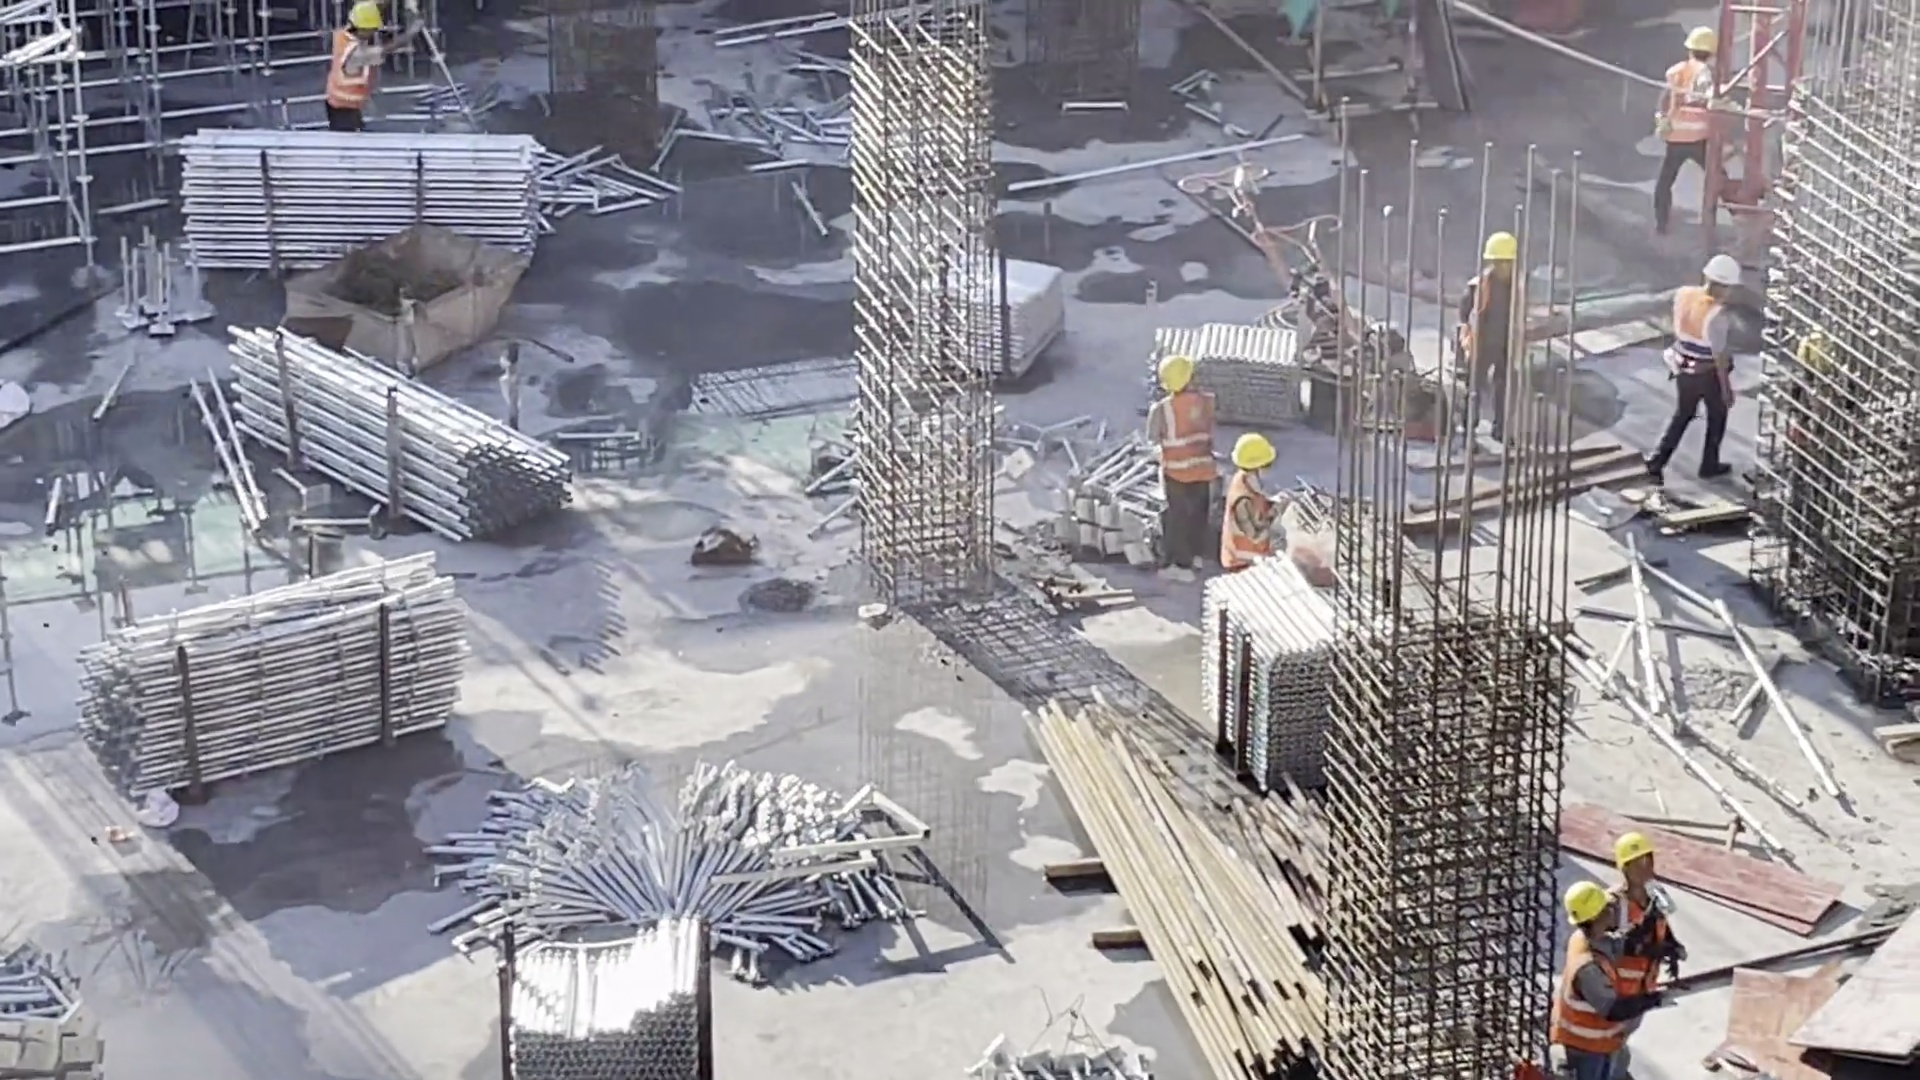board: (1733, 894, 1913, 1080)
helmet: (1560, 878, 1623, 935), (1232, 426, 1286, 483), (1675, 20, 1719, 58), (1152, 358, 1199, 393), (1625, 842, 1666, 875), (345, 1, 384, 34), (1714, 257, 1738, 297), (1488, 232, 1518, 263)
hopper: (269, 216, 536, 372)
person: (1663, 249, 1751, 483), (1459, 219, 1538, 460), (1545, 876, 1637, 1076), (1654, 17, 1734, 211), (1141, 354, 1218, 550), (1601, 815, 1677, 1012), (1208, 423, 1293, 598), (332, 1, 417, 142)
scaffold: (450, 768, 919, 965), (214, 318, 578, 552), (80, 561, 469, 771), (168, 119, 544, 279), (488, 912, 732, 1080), (1195, 557, 1353, 788), (920, 232, 1102, 399), (1148, 321, 1326, 447), (1, 917, 114, 1077)
vest: (1552, 929, 1623, 1046), (1603, 886, 1666, 995), (1215, 465, 1284, 557), (1658, 58, 1728, 143), (1164, 387, 1221, 486), (1466, 271, 1534, 354), (1674, 285, 1726, 364), (329, 34, 380, 109)
